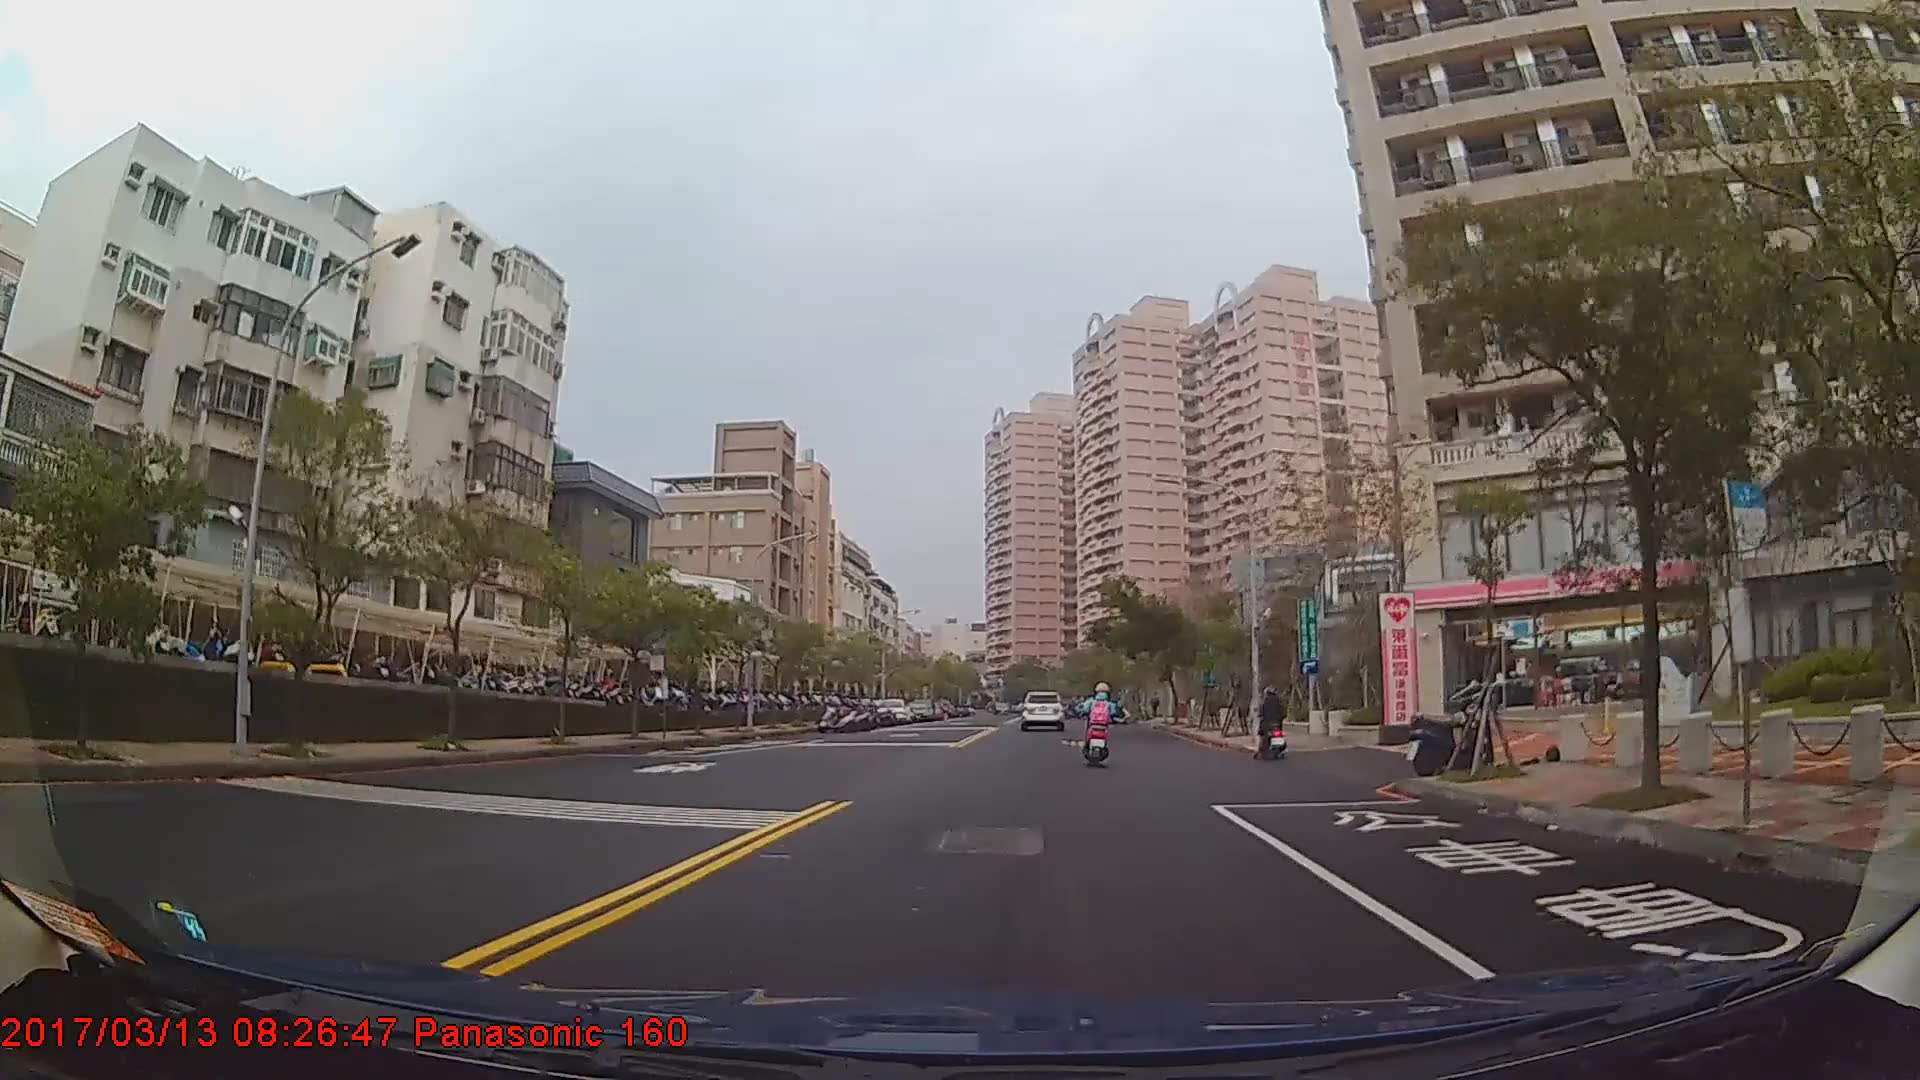rider: (1079, 679, 1119, 764), (1254, 686, 1290, 761)
vehicle: (1017, 689, 1068, 729), (874, 695, 909, 722)
